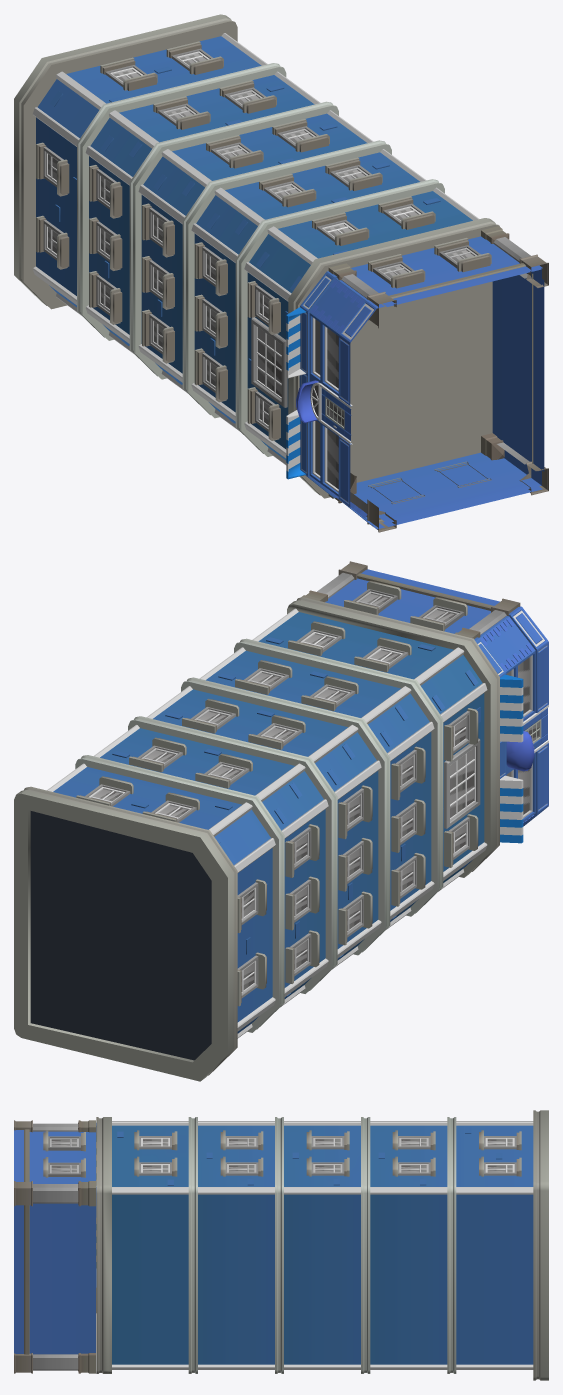
Rendered from Building_3_4_F.fbx.
3 renders of one model, top to bottom at view 1: azimuth 30°, elevation 25°; view 2: azimuth 150°, elevation 25°; view 3: azimuth 270°, elevation 25°, orthographic. The views are drawn at different scales.
Visible parts, largest first — view 1: Building 3_4_F; view 2: Building 3_4_F; view 3: Building 3_4_F.
Boxes of the visible parts, x1=… form: Building 3_4_F: x1=14, y1=14, x2=548, y2=532; Building 3_4_F: x1=14, y1=561, x2=548, y2=1081; Building 3_4_F: x1=14, y1=1110, x2=548, y2=1380.
Bounding box in the file's own units: 808 × 837 × 2041.
